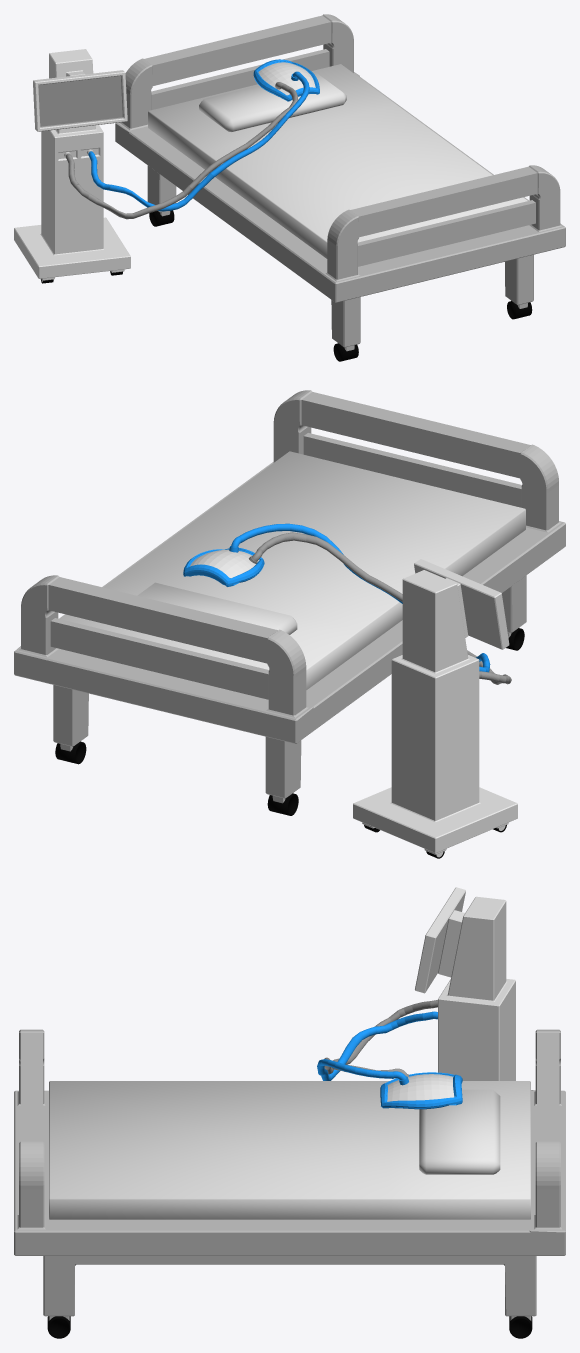
The model's file is HospitalBedWithVentilation.fbx.
3 views of the same model, one above another, from view 1: azimuth 30°, elevation 25°; view 2: azimuth 150°, elevation 25°; view 3: azimuth 270°, elevation 25° (orthographic). The views are drawn at different scales.
Visible parts, largest first — view 1: hospital_bed, mattress, ventilator, pillow, tube_blue, ventilation_mask, tube_white, wheels; view 2: hospital_bed, mattress, ventilator, pillow, ventilation_mask, wheels, tube_blue, tube_white; view 3: mattress, hospital_bed, ventilator, pillow, ventilation_mask, tube_blue, wheels.
Part boxes in pixels (x1,y1,x2,y2): hospital_bed: (115, 14, 565, 351); mattress: (148, 64, 527, 258); ventilator: (14, 49, 130, 280); pillow: (199, 72, 346, 131); tube_blue: (88, 71, 309, 211); ventilation_mask: (253, 59, 319, 101); tube_white: (74, 100, 297, 219); wheels: (149, 210, 532, 361); hospital_bed: (14, 390, 565, 803); mattress: (60, 451, 525, 689); ventilator: (353, 559, 517, 854); pillow: (137, 582, 297, 634); ventilation_mask: (183, 548, 264, 586); wheels: (55, 628, 524, 815); tube_blue: (229, 523, 490, 672); tube_white: (293, 532, 511, 684); mattress: (49, 1081, 530, 1219); hospital_bed: (14, 1029, 565, 1320); ventilator: (415, 887, 515, 1080); pillow: (419, 1089, 500, 1174); ventilation_mask: (380, 1072, 462, 1109); tube_blue: (317, 1011, 437, 1085); wheels: (47, 1316, 532, 1338).
Bounding box in the file's own units: 10.53 × 11.18 × 5.74.
